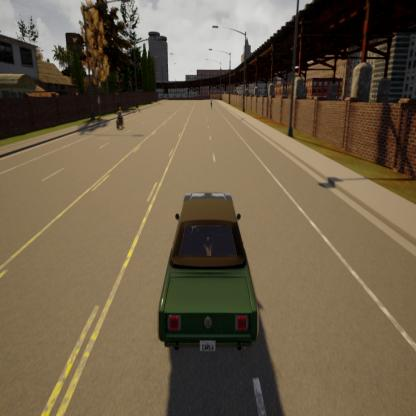Cars: (149, 186, 267, 367)
